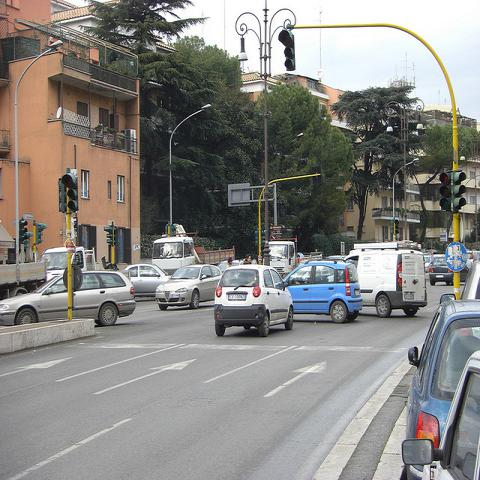car: (407, 299, 479, 479), (400, 348, 480, 479), (0, 270, 136, 326), (212, 262, 292, 337), (286, 259, 364, 325), (155, 264, 222, 311), (124, 263, 172, 299), (429, 254, 454, 287), (461, 255, 479, 299), (424, 254, 434, 272)
truck: (344, 238, 428, 320), (0, 254, 48, 298), (37, 246, 97, 280), (152, 236, 195, 276), (268, 240, 296, 280)
